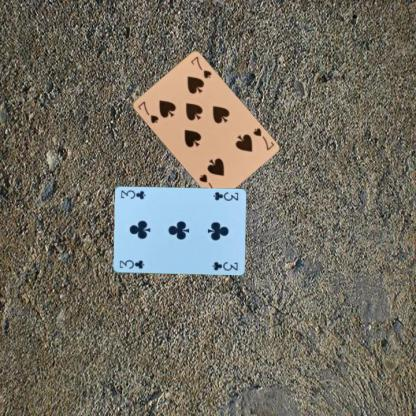3c: (116, 257, 146, 270), (210, 190, 240, 202)
7s: (134, 99, 160, 125), (250, 126, 275, 152)
